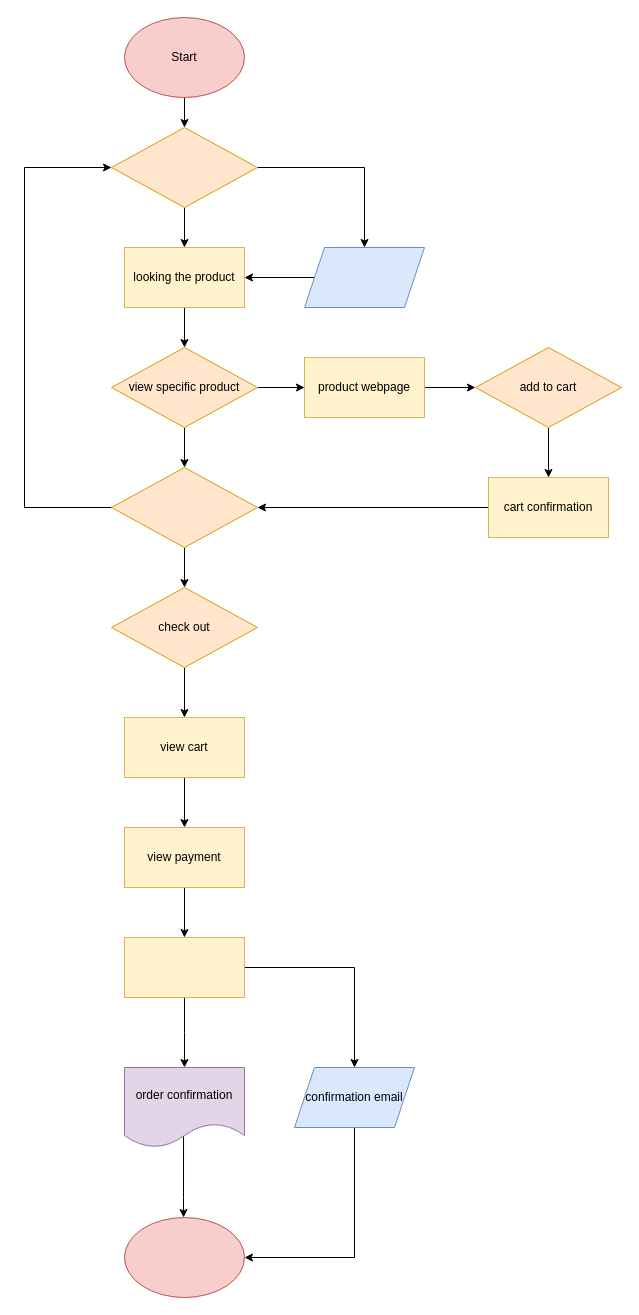
Image size: 639x1315. Some labels were removed from this diagram. Each missing label, with the centre of its shape:
"End" goes at (x=184, y=1257).
"explore the product" goes at (x=184, y=167).
"keep shopping" goes at (x=184, y=507).
"payment information" goes at (x=184, y=967).
"search for product" goes at (x=364, y=277).
